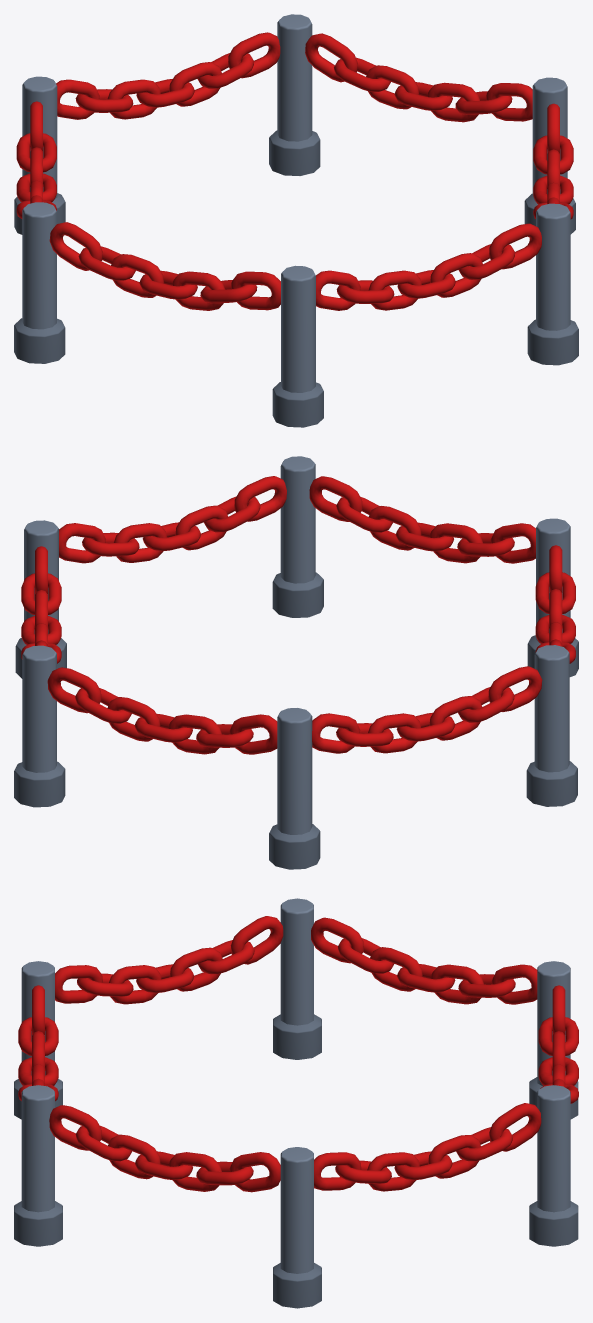
The model's file is Hexa_Locked1.fbx.
The picture shows the model from 3 angles, top to bottom: view 1: azimuth 30°, elevation 25°; view 2: azimuth 150°, elevation 25°; view 3: azimuth 270°, elevation 25°; orthographic projection.
Visible parts, largest first — view 1: Hexa_Locked1; view 2: Hexa_Locked1; view 3: Hexa_Locked1.
Boxes of the visible parts, <box> form: Hexa_Locked1: <box>14,14,578,427</box>; Hexa_Locked1: <box>14,456,578,869</box>; Hexa_Locked1: <box>14,898,578,1308</box>.
Bounding box in the file's own units: 3.57 × 0.8884 × 3.16.
1 material, 1 textured.
